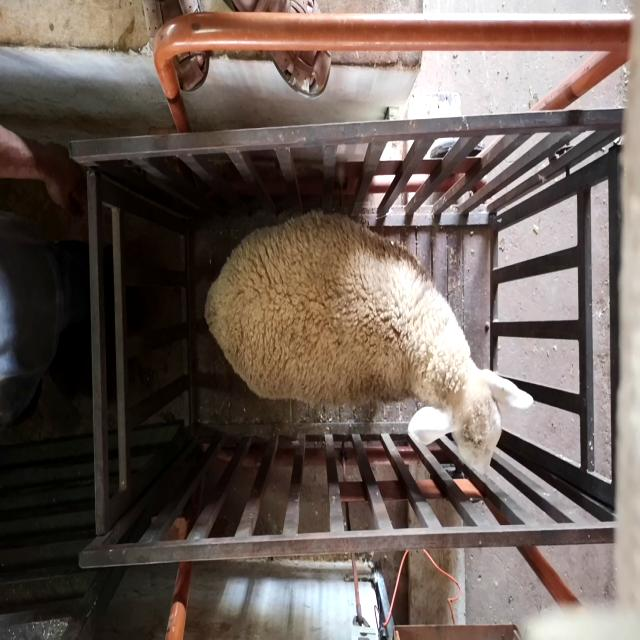sheep: (204, 212, 535, 475)
